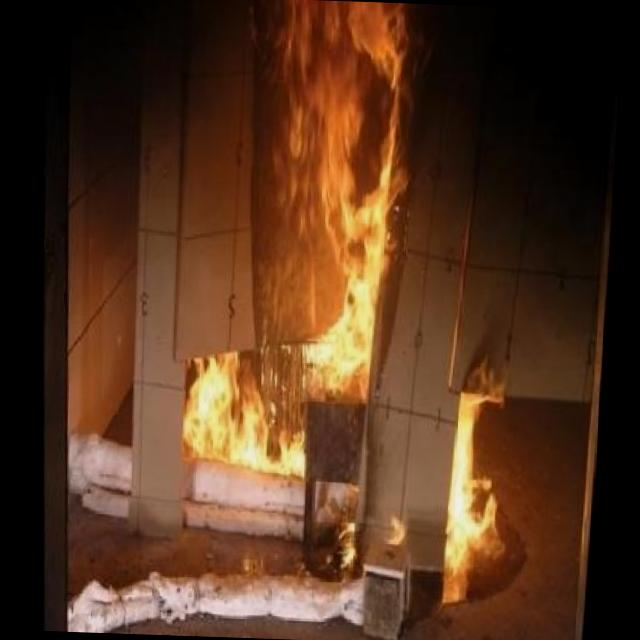fire: (151, 0, 426, 525), (393, 323, 546, 620)
